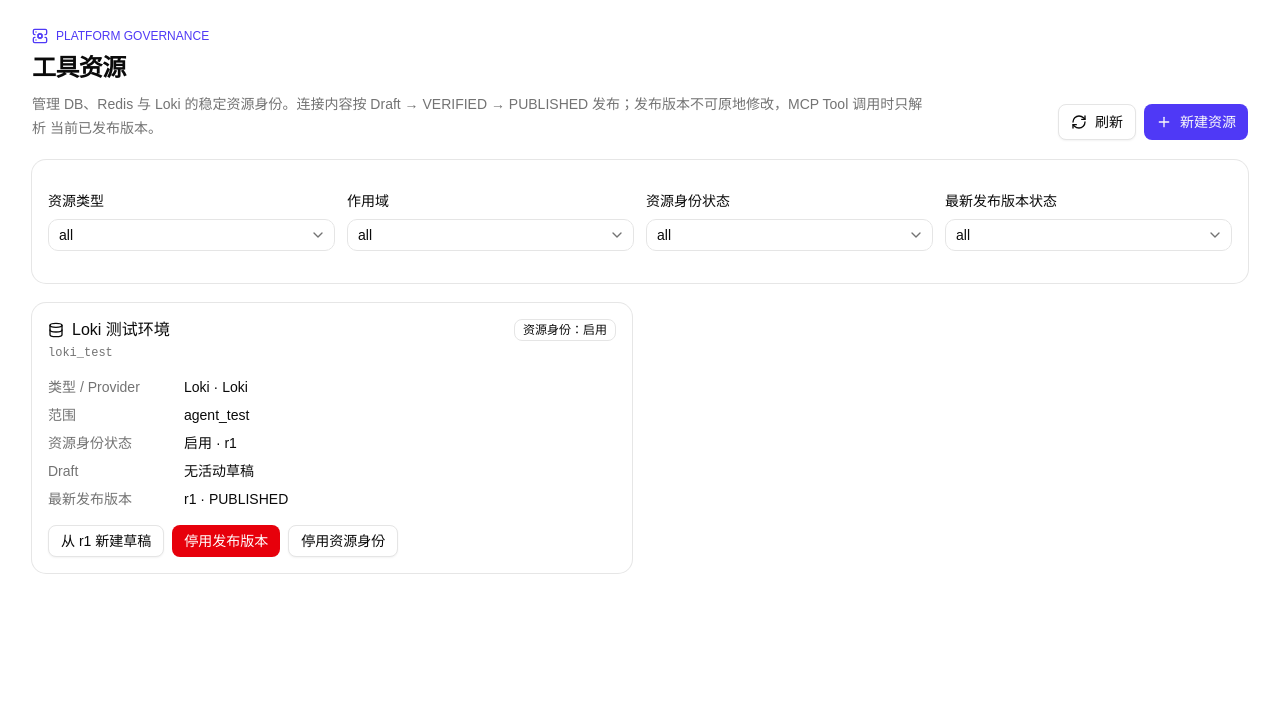
Phase 5 platform governance UI › creates a new Resource Draft directly from a Published revision
Click the button "从 r1 新建草稿" at x=106, y=541, box 48,525 -> 164,557
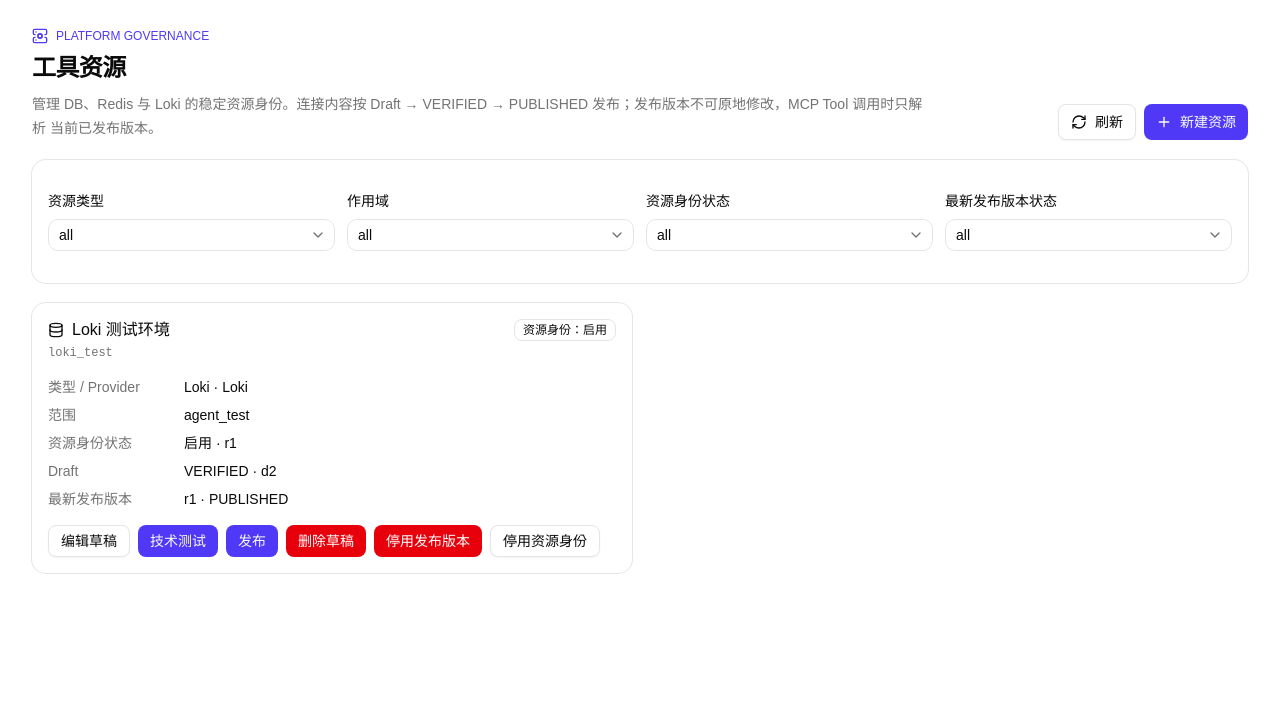
Expected: the button "编辑草稿" is shown, 48,525 -> 130,557
